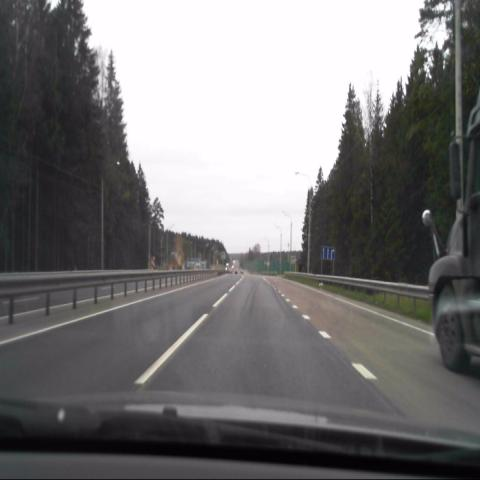5_15_1: (322, 246, 335, 261)
